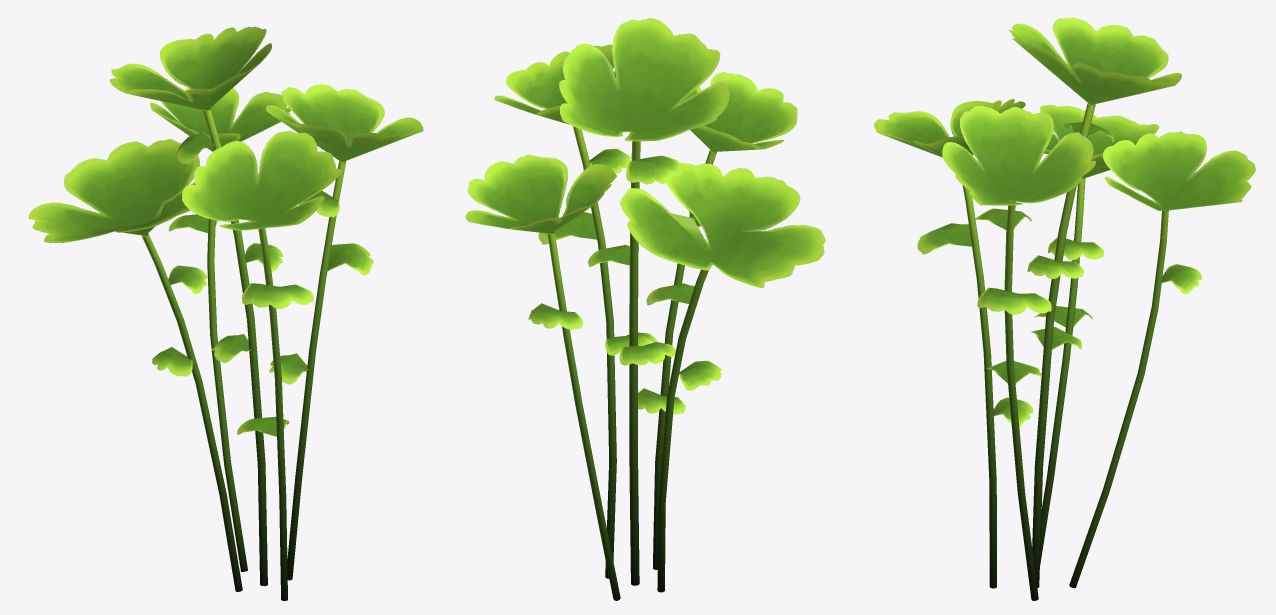
File: Clover_2.gltf
3 renders of one model, left to right at view 1: azimuth 30°, elevation 25°; view 2: azimuth 150°, elevation 25°; view 3: azimuth 270°, elevation 25°, orthographic. The views are drawn at different scales.
Visible parts, largest first — view 1: Clover_2; view 2: Clover_2; view 3: Clover_2.
Part boxes in pixels (box(x1,y1,x2,y2)): Clover_2: box(28, 26, 423, 600); Clover_2: box(465, 18, 825, 600); Clover_2: box(874, 17, 1255, 600).
Size of the model in its own units: 0.8511 by 1.26 by 0.8366.
1 material, 1 textured.
